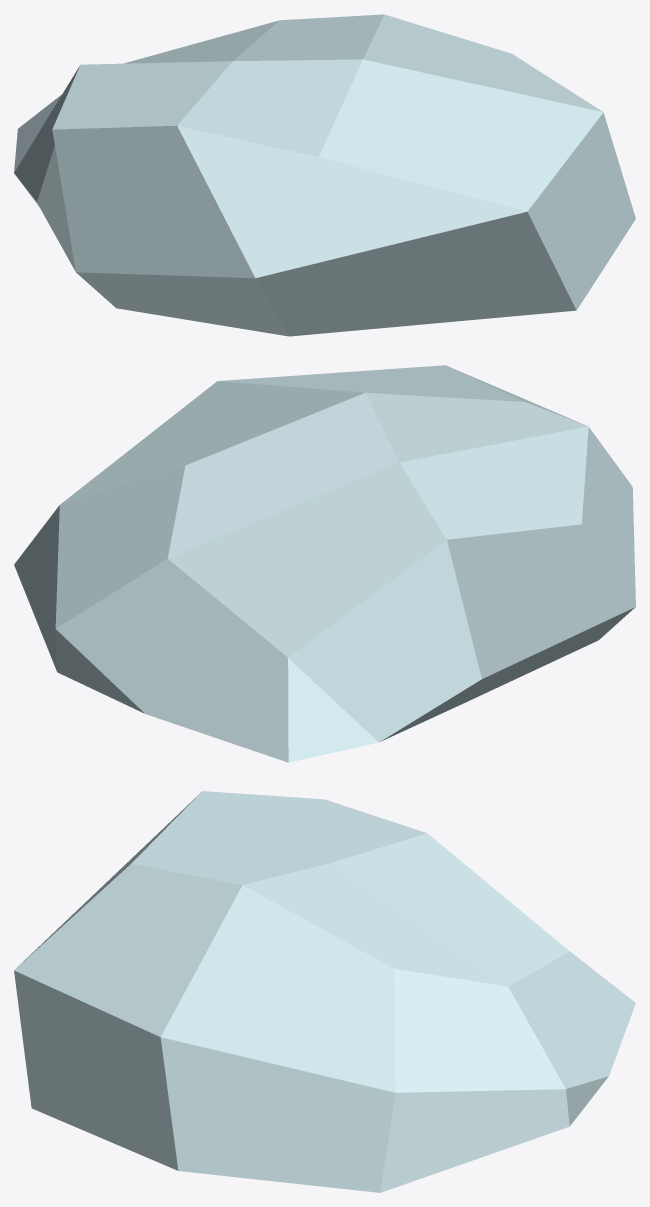
The model's file is Stone_1_Small.fbx.
3 views of the same model, one above another, from view 1: azimuth 30°, elevation 25°; view 2: azimuth 150°, elevation 25°; view 3: azimuth 270°, elevation 25° (orthographic). The views are drawn at different scales.
Visible parts, largest first — view 1: Stone_1_Small; view 2: Stone_1_Small; view 3: Stone_1_Small.
Boxes of the visible parts, box(x1,y1,x2,y2) form: Stone_1_Small: box(14, 14, 635, 336); Stone_1_Small: box(14, 365, 635, 762); Stone_1_Small: box(14, 791, 635, 1192).
Bounding box in the file's own units: 0.1775 × 0.0573 × 0.1812.
